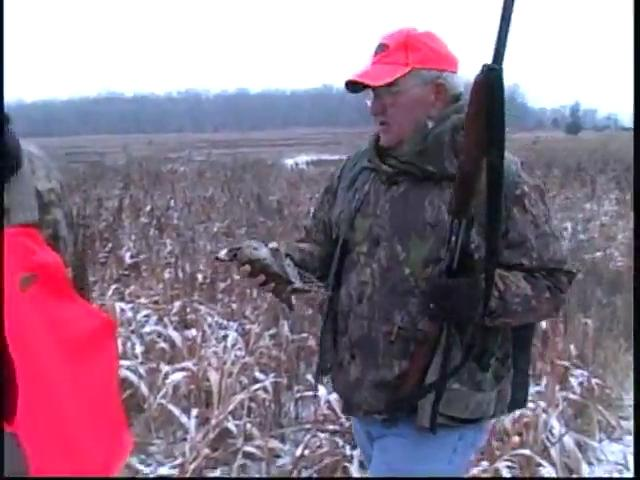victim: (236, 23, 578, 478)
